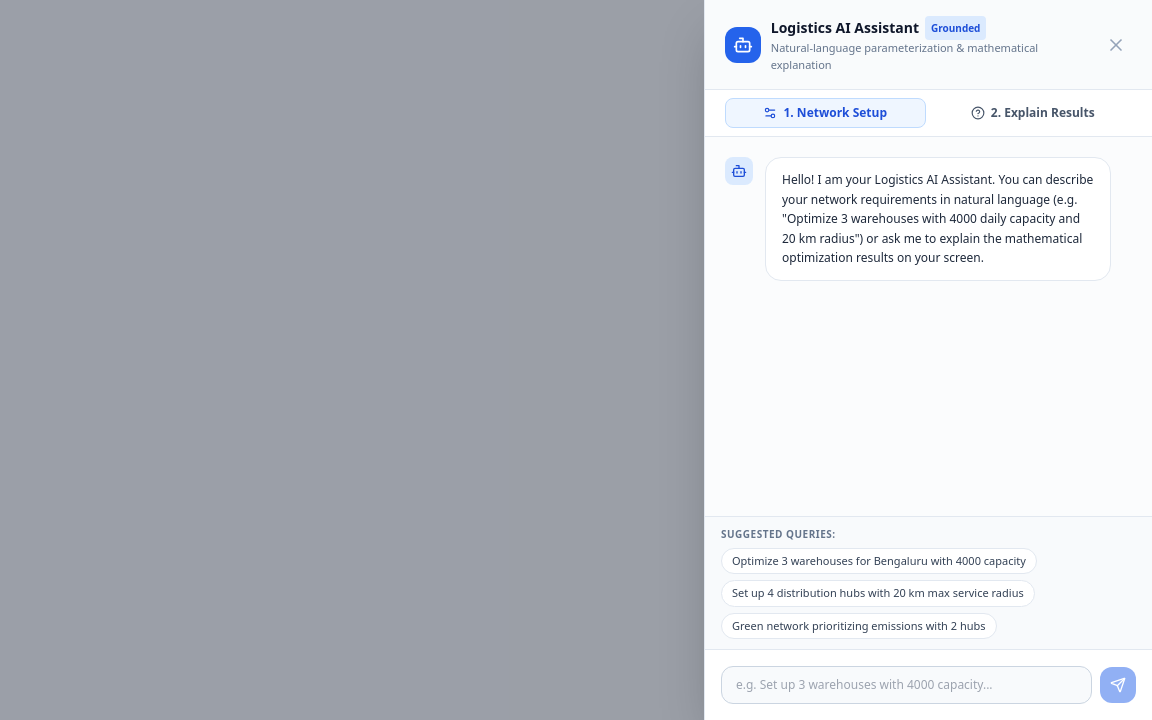
Test case: LogisticsAssistant Component › displays friendly error banner on network failure without crashing
Type "Optimize network" into the field with placeholder "e.g. Set up 3 warehouses with 4000 capacity..." at {"x": 906, "y": 685}, box [721,666,1092,704]
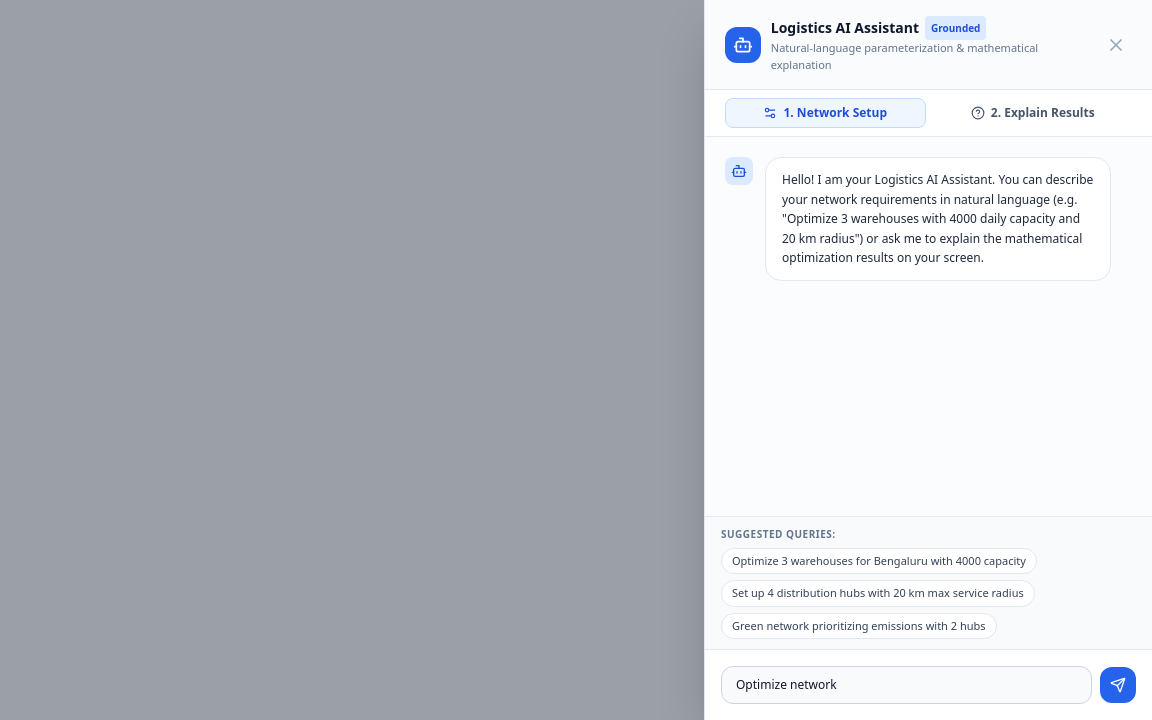
Click the button titled "Send message" at {"x": 1118, "y": 685}, box [1100,667,1136,703]
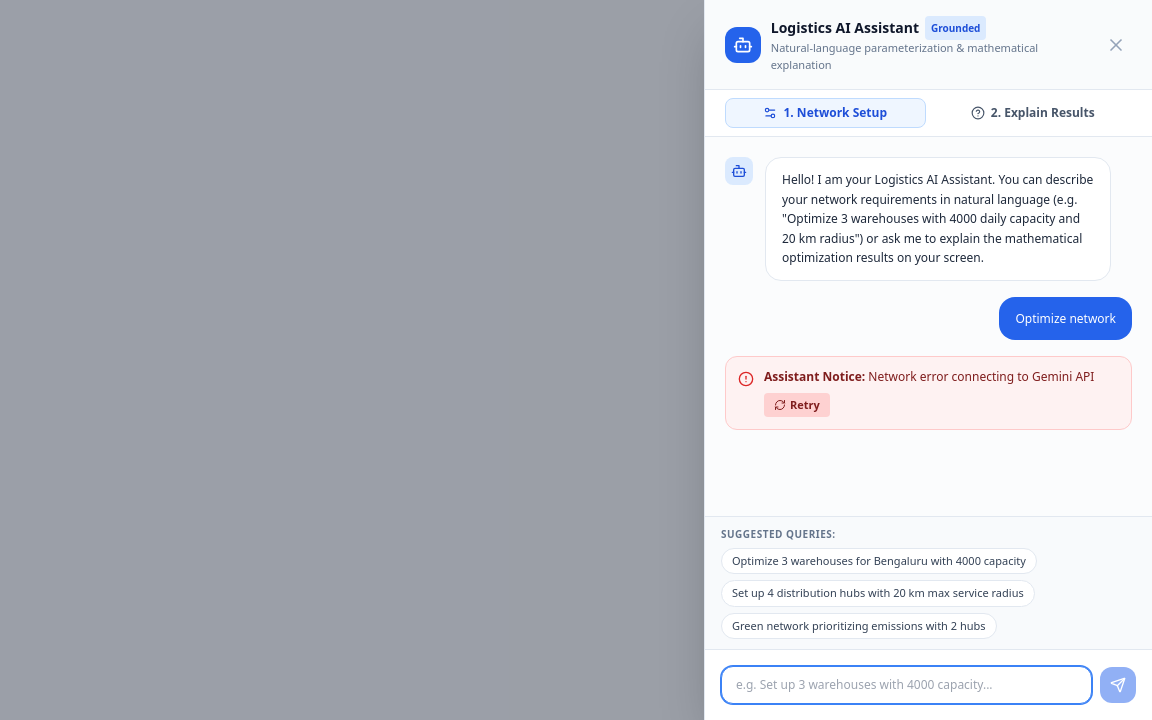
Expected: the message "Assistant Notice: Network error connecting to Gemini API Retry" is shown, [725,356,1132,430]
Expected: the text "Network error connecting to Gemini API" is shown, [868,368,1094,385]
Expected: the button "Retry" is shown, [764,393,830,417]
